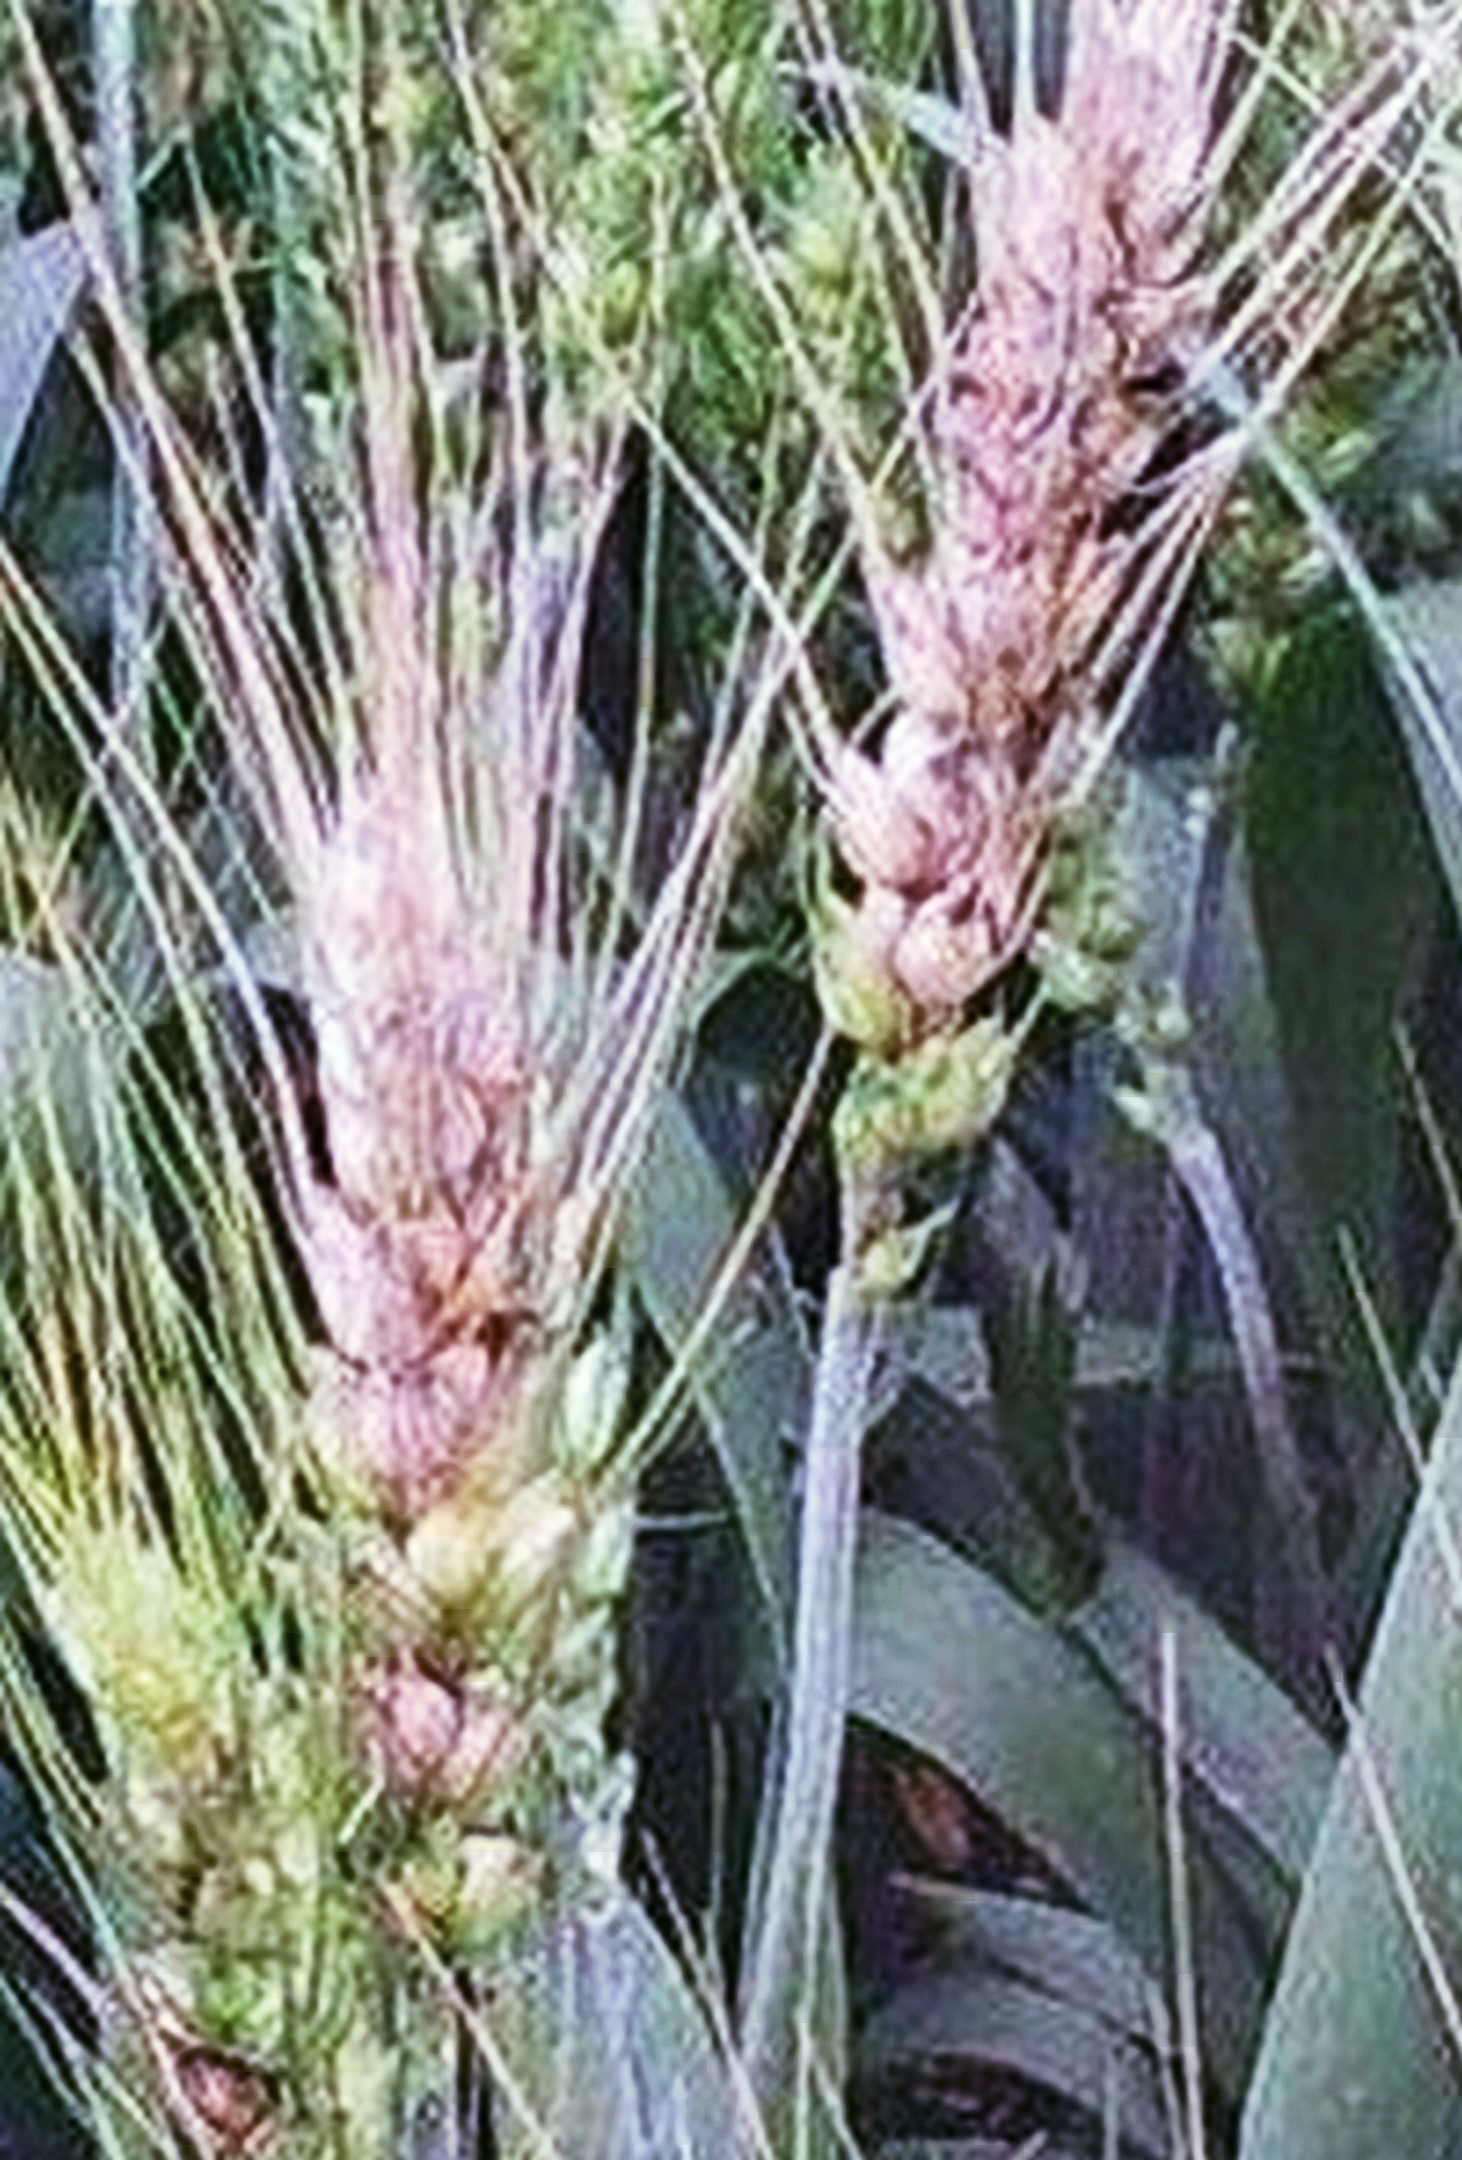Wheat scab: (788, 52, 1199, 1255), (269, 796, 659, 1950)
